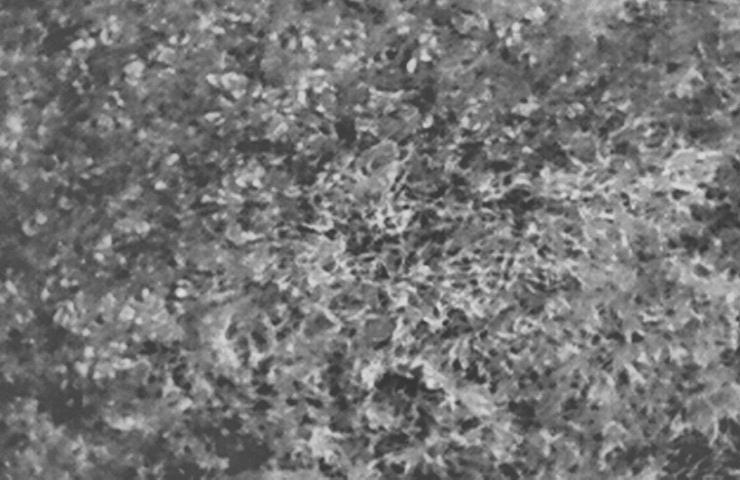landmines: (360, 312, 397, 347)
